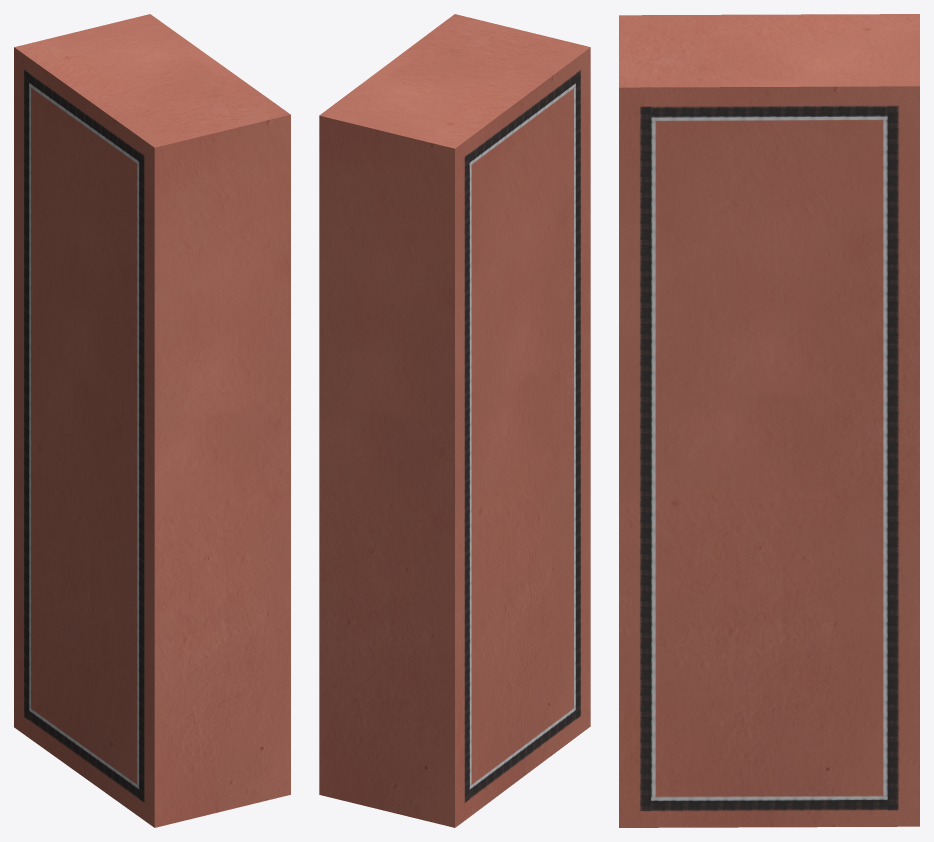
File: SM_W_Pink_4.fbx
The picture shows the model from 3 angles, left to right: view 1: azimuth 30°, elevation 25°; view 2: azimuth 150°, elevation 25°; view 3: azimuth 270°, elevation 25°; orthographic projection. The views are drawn at different scales.
Parts seen in each view (by area): view 1: SM_W_Pink_4; view 2: SM_W_Pink_4; view 3: SM_W_Pink_4.
Boxes of the visible parts, left/top/right/bottom form: SM_W_Pink_4: left=14, top=14, right=290, bottom=827; SM_W_Pink_4: left=319, top=14, right=590, bottom=827; SM_W_Pink_4: left=619, top=14, right=919, bottom=827.
Bounding box in the file's own units: 15.62 × 27 × 73.29.
Materials: 1 (1 with a texture image).
